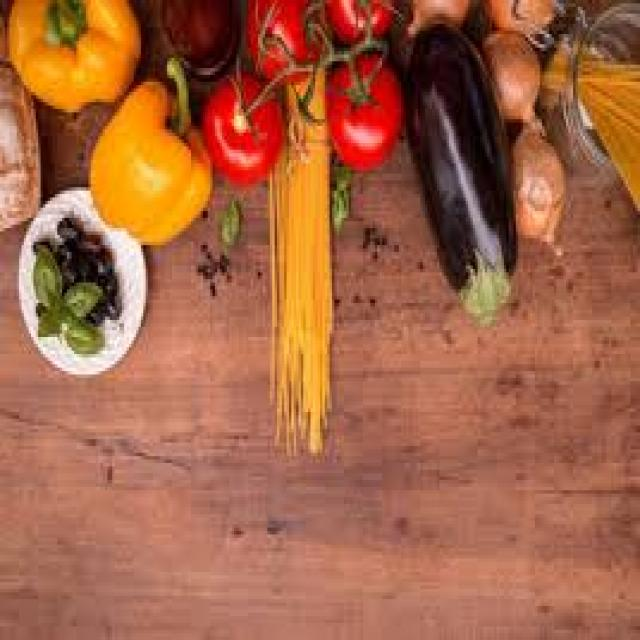organic waste: (408, 17, 514, 317), (265, 65, 330, 449), (88, 55, 205, 245), (7, 0, 139, 109), (576, 48, 638, 211), (201, 58, 277, 180), (327, 51, 401, 167), (511, 119, 564, 245), (0, 55, 38, 228), (478, 28, 540, 130), (155, 0, 234, 75), (246, 0, 318, 82), (322, 0, 396, 44), (396, 0, 471, 34), (478, 0, 564, 27), (191, 235, 229, 293), (62, 313, 105, 351), (33, 252, 60, 296), (540, 41, 566, 85), (58, 280, 100, 306), (38, 303, 69, 337), (332, 163, 349, 214), (215, 197, 234, 242), (356, 221, 384, 245), (351, 286, 377, 306), (98, 272, 115, 300), (55, 214, 74, 238), (74, 228, 100, 245), (91, 242, 107, 266), (76, 252, 91, 276), (28, 235, 48, 252), (60, 262, 76, 279), (55, 242, 69, 258), (38, 245, 53, 259), (102, 296, 114, 313), (86, 303, 100, 317), (384, 242, 396, 252), (368, 245, 380, 255), (253, 266, 260, 279), (411, 256, 420, 266), (34, 300, 40, 310), (330, 293, 334, 306), (196, 204, 203, 211)
